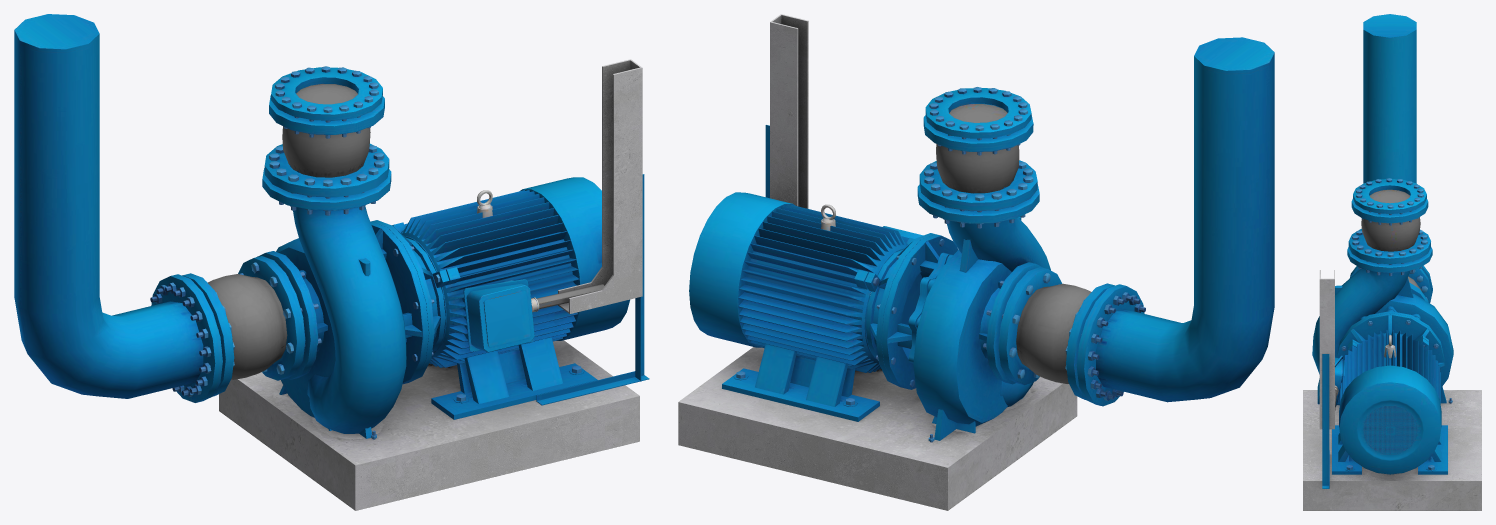
Rendered from LX_shuibeng.glb.
The picture shows the model from 3 angles, left to right: view 1: azimuth 30°, elevation 25°; view 2: azimuth 150°, elevation 25°; view 3: azimuth 270°, elevation 25°; orthographic projection. The views are drawn at different scales.
Bounding box in the file's own units: 2.84 × 2.28 × 1.16.
Materials: 2 (2 with a texture image).
